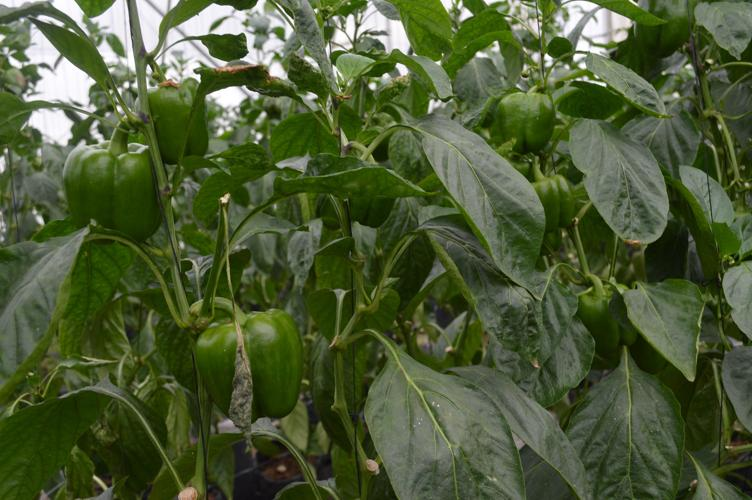BellPepper: (183, 300, 317, 433), (59, 138, 165, 265), (567, 264, 650, 356), (141, 72, 215, 166), (487, 84, 553, 167), (508, 166, 571, 236)
